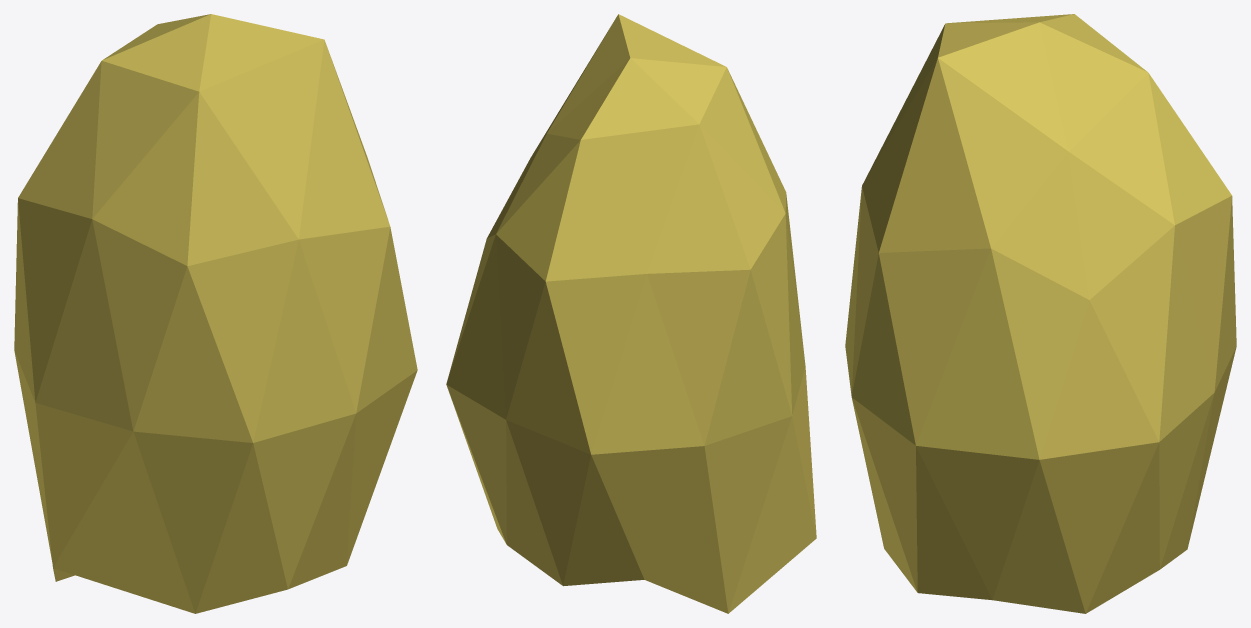
Rendered from bush_4_autumn_mat.fbx.
3 renders of one model, left to right at view 1: azimuth 30°, elevation 25°; view 2: azimuth 150°, elevation 25°; view 3: azimuth 270°, elevation 25°, orthographic. The views are drawn at different scales.
Parts seen in each view (by area): view 1: bush_4_autumn_mat; view 2: bush_4_autumn_mat; view 3: bush_4_autumn_mat.
Part boxes in pixels (left/top/right/bottom): bush_4_autumn_mat: left=14, top=14, right=417, bottom=613; bush_4_autumn_mat: left=446, top=14, right=816, bottom=613; bush_4_autumn_mat: left=845, top=14, right=1236, bottom=613.
Size of the model in its own units: 1.56 by 2.32 by 1.47.
